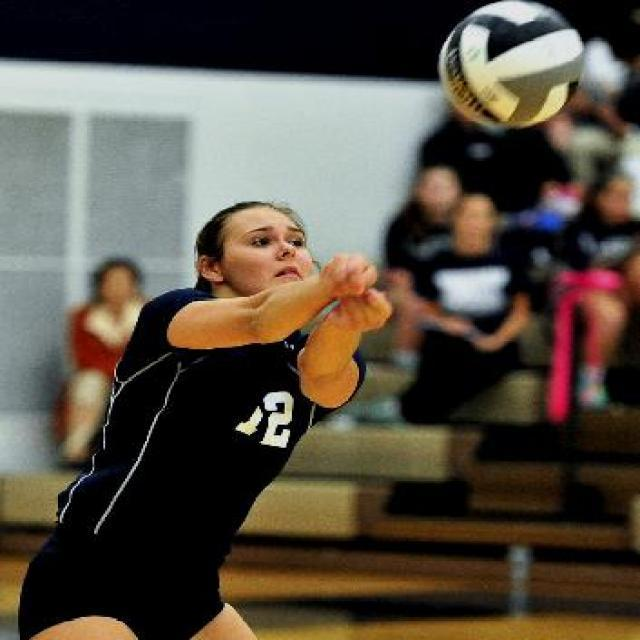volleyball: (436, 0, 583, 131)
